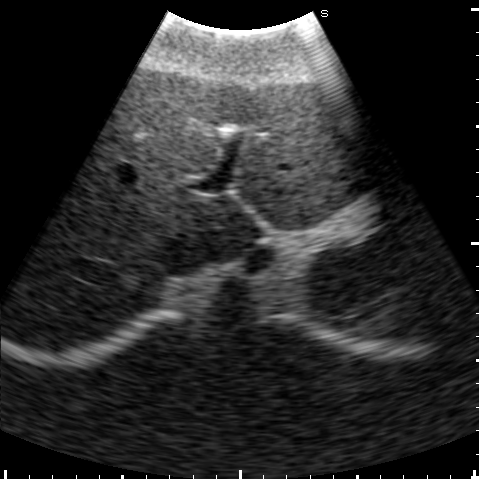IVC: (155, 230, 216, 275)
S1: (206, 197, 265, 262)
S2: (236, 147, 397, 232)
S3: (234, 80, 387, 193)
Tumor: (337, 116, 354, 132)
